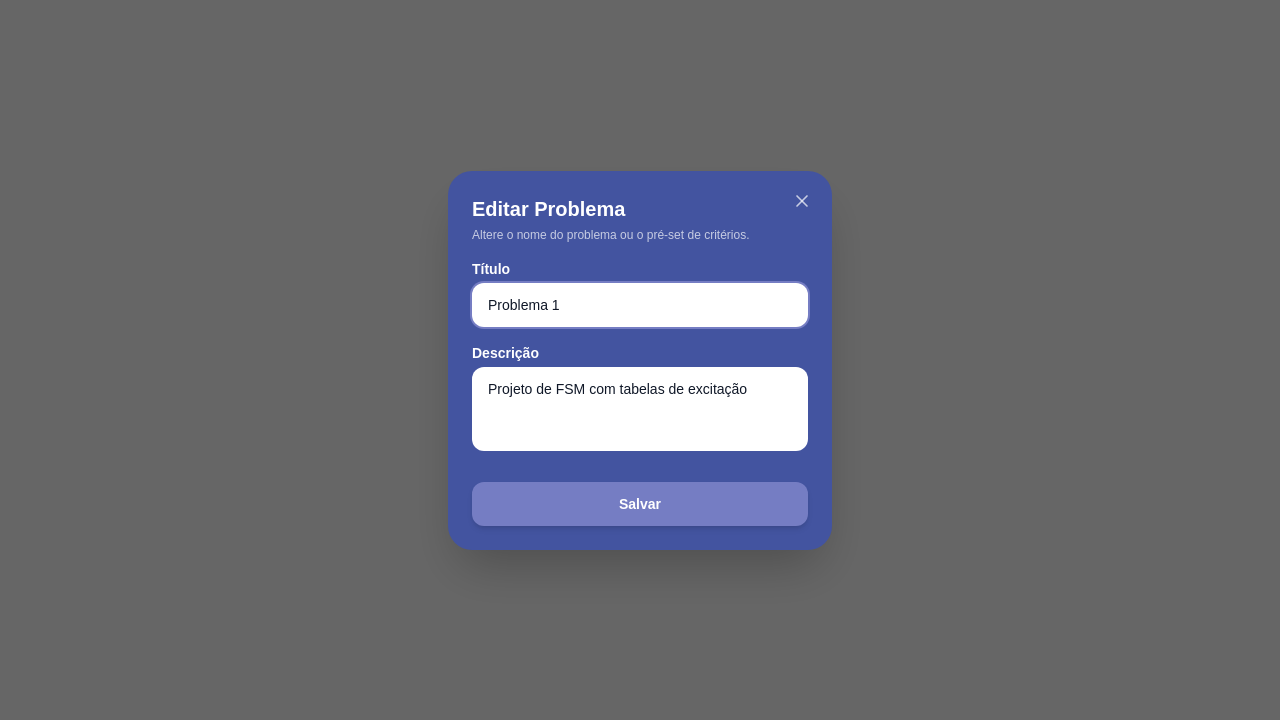
[US05] CreateProblemModal › Deve usar a mensagem de "salvar" quando a edição falha
Click the button "Salvar": x=640, y=504 [472, 482, 808, 526]
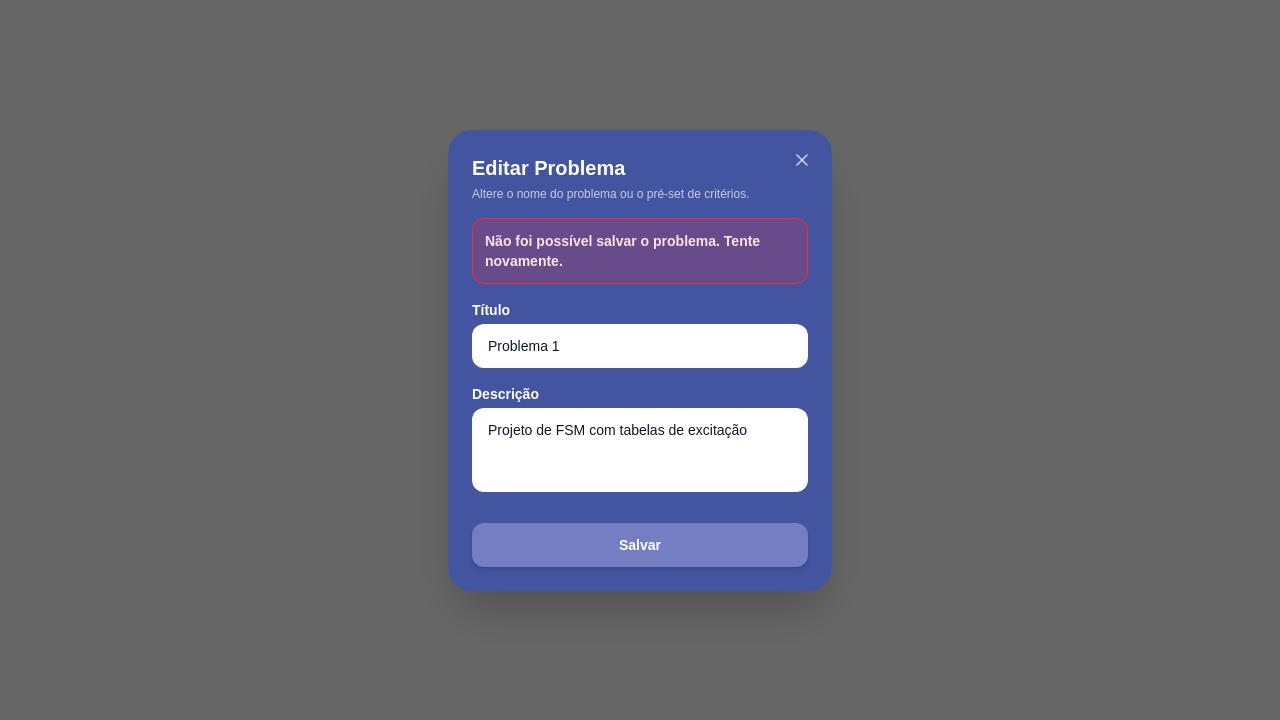
Expected: the message shows "Não foi possível salvar o problema", [485, 232, 760, 268]
